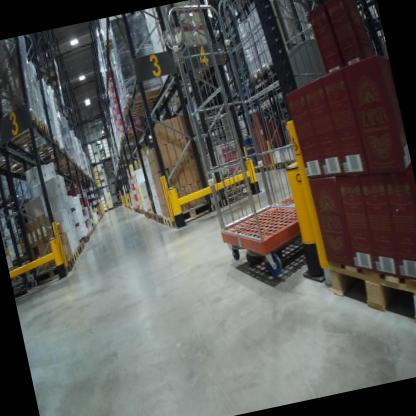pallet: (322, 231, 416, 345), (160, 191, 221, 233), (0, 108, 45, 148), (121, 81, 168, 114), (208, 180, 255, 213), (30, 252, 78, 282), (12, 121, 53, 154), (120, 100, 160, 123), (34, 137, 63, 161), (260, 58, 287, 83), (101, 32, 124, 59), (222, 173, 251, 194), (41, 147, 68, 167), (0, 153, 26, 172), (8, 161, 31, 182), (247, 64, 268, 86), (248, 160, 276, 175), (283, 156, 303, 173), (227, 0, 259, 8), (272, 159, 287, 171), (80, 233, 91, 246), (70, 248, 80, 262), (158, 211, 167, 226), (141, 206, 151, 219), (77, 238, 86, 252), (74, 243, 83, 256), (20, 192, 30, 203), (152, 209, 159, 223), (147, 209, 154, 222), (105, 153, 112, 159), (99, 156, 107, 161), (100, 132, 107, 137), (0, 194, 2, 203)
